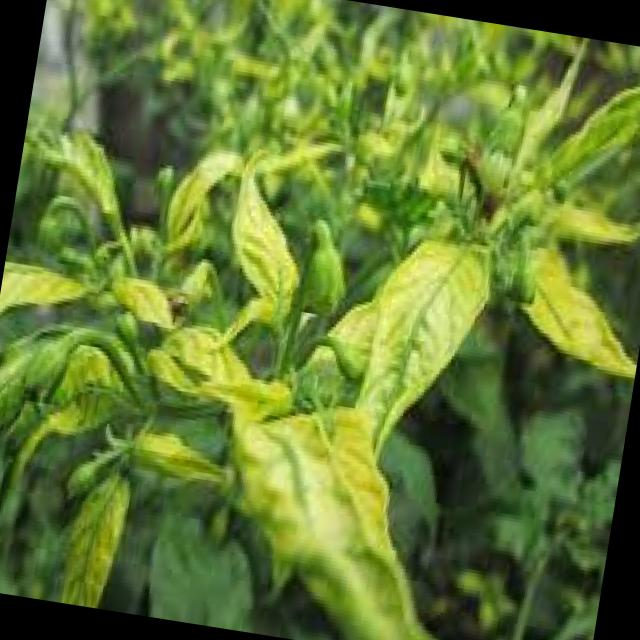Chilli_Leaf_Curl: (0, 0, 640, 640), (198, 383, 490, 640), (343, 222, 499, 470), (505, 238, 640, 381), (216, 160, 316, 328)
